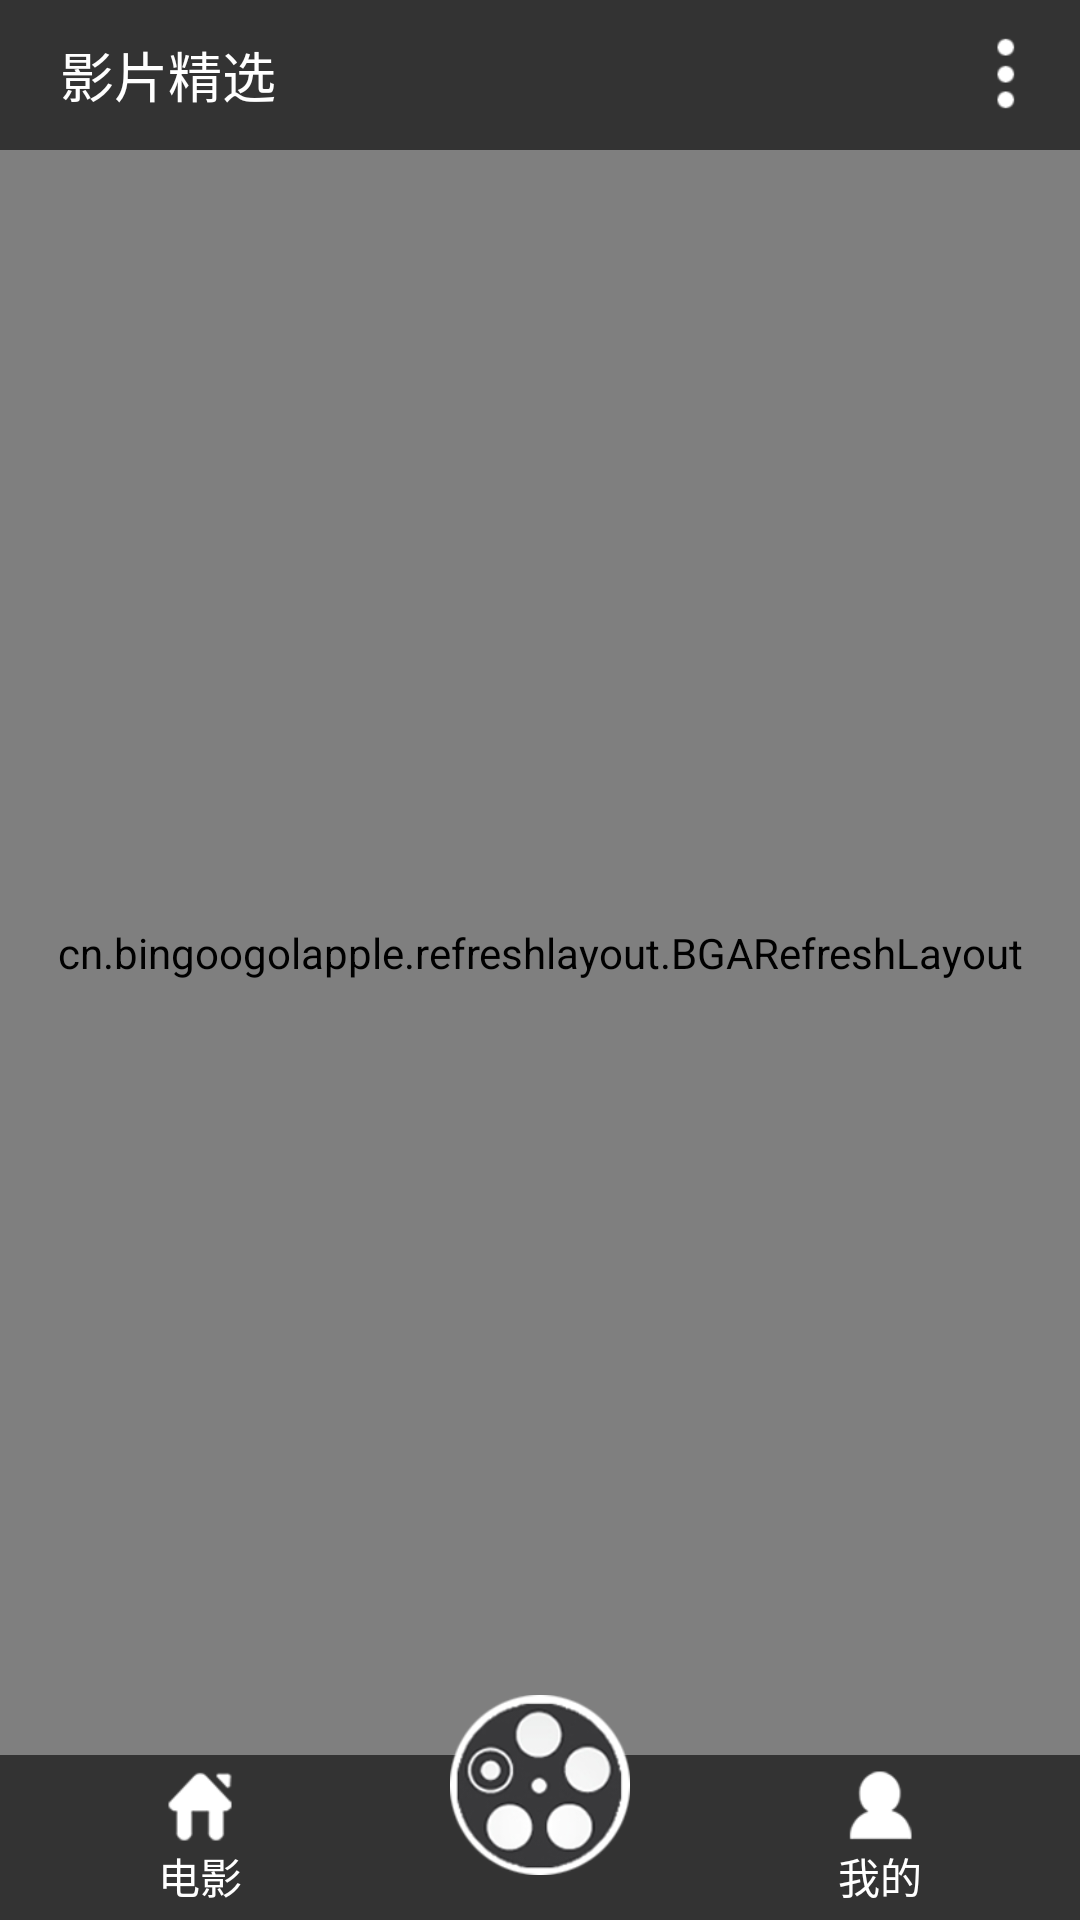

Icons on this 1080 x 1920 Android screen, each with the point to tap as (x=x, y=y):
home: (x=200, y=1807)
more: (x=1006, y=73)
